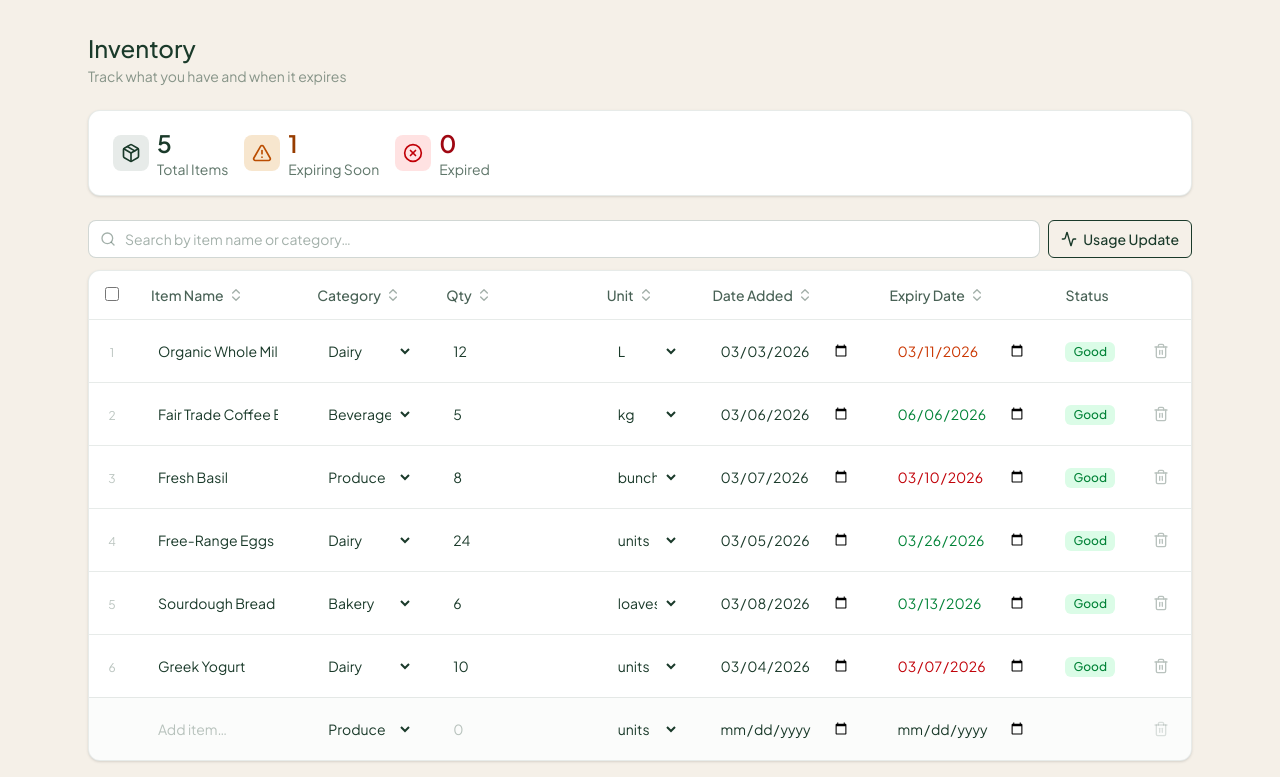
when toggling usage update mode › returns to "Usage Update" label when toggled off again
Step 1. Click the button "Usage Update" → [1120, 239], box [1048,220,1192,258]
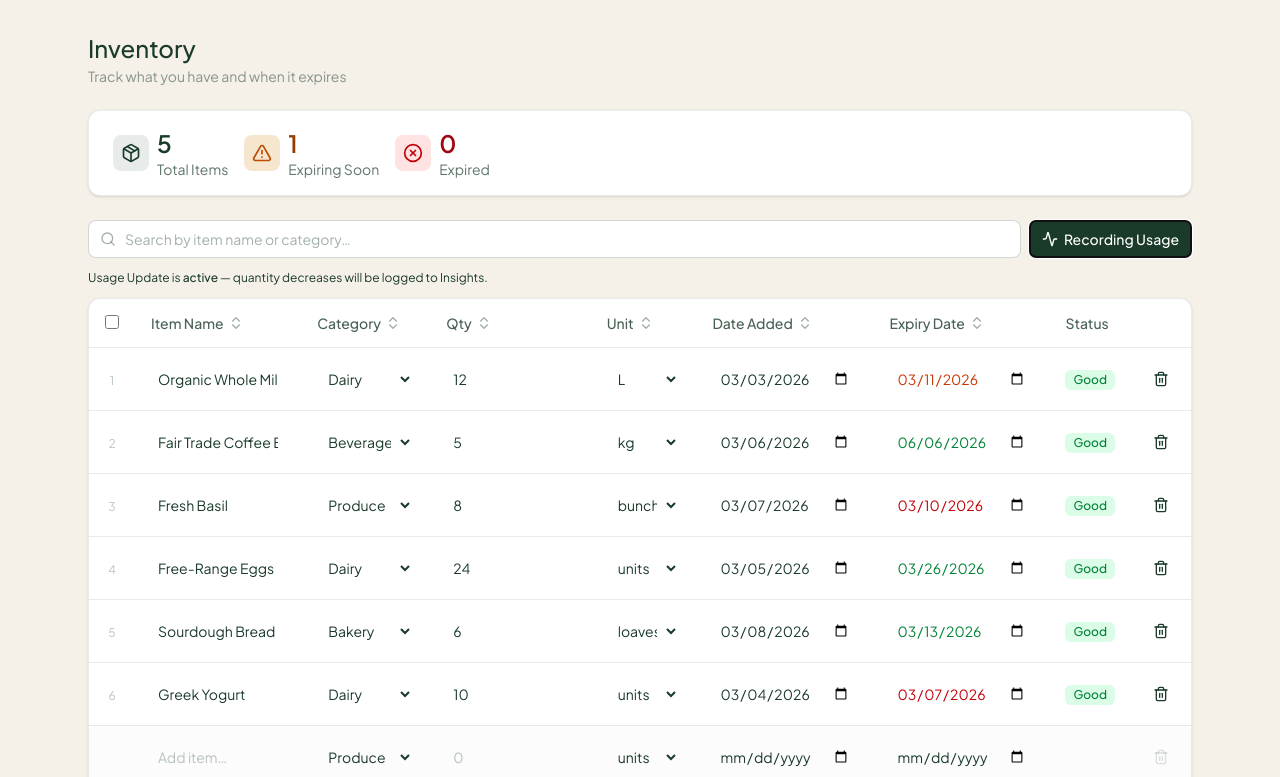
Step 2. Click the button "Recording Usage" → [1110, 239], box [1029,220,1192,258]
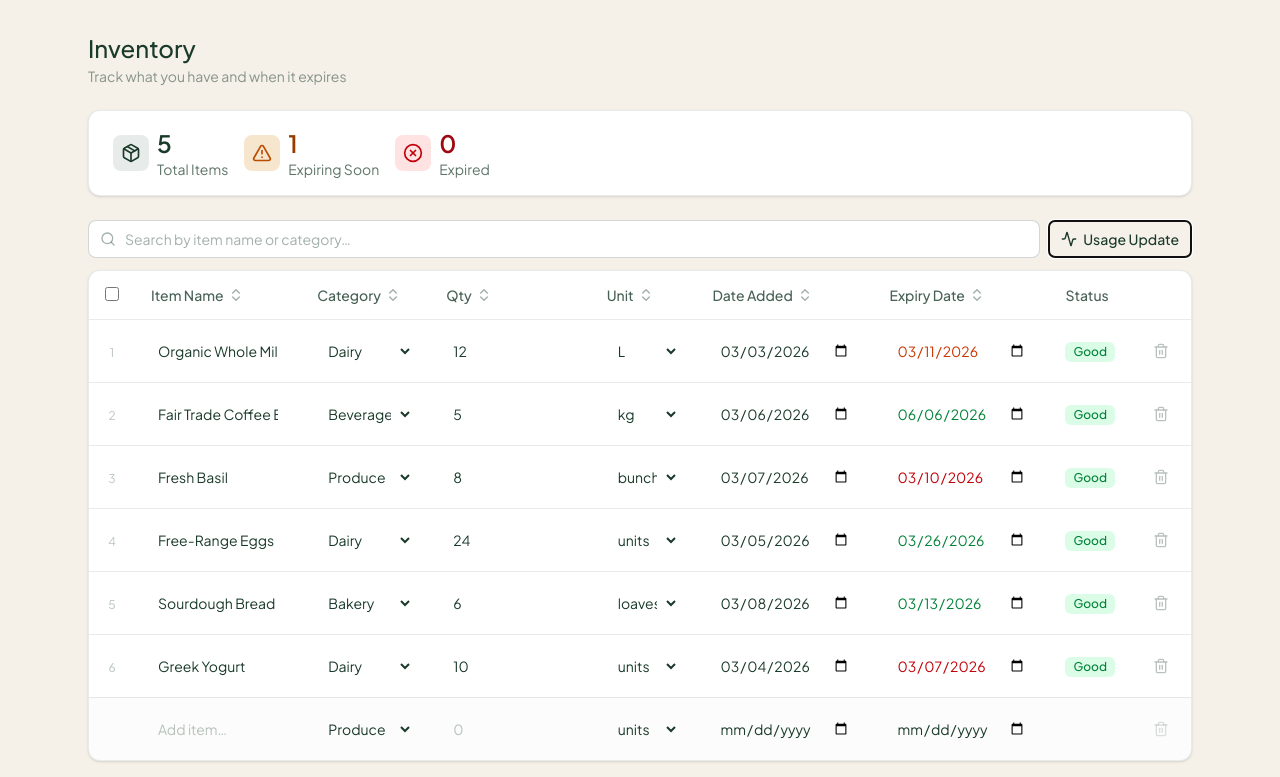
Expected: the button "Usage Update" is shown, [1048,220,1192,258]
